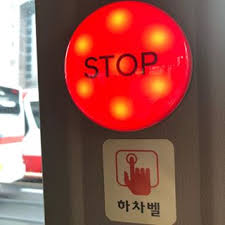bell: (59, 1, 198, 134)
